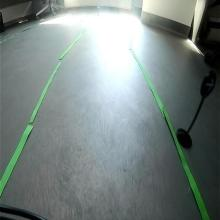right: (199, 70, 217, 100)
